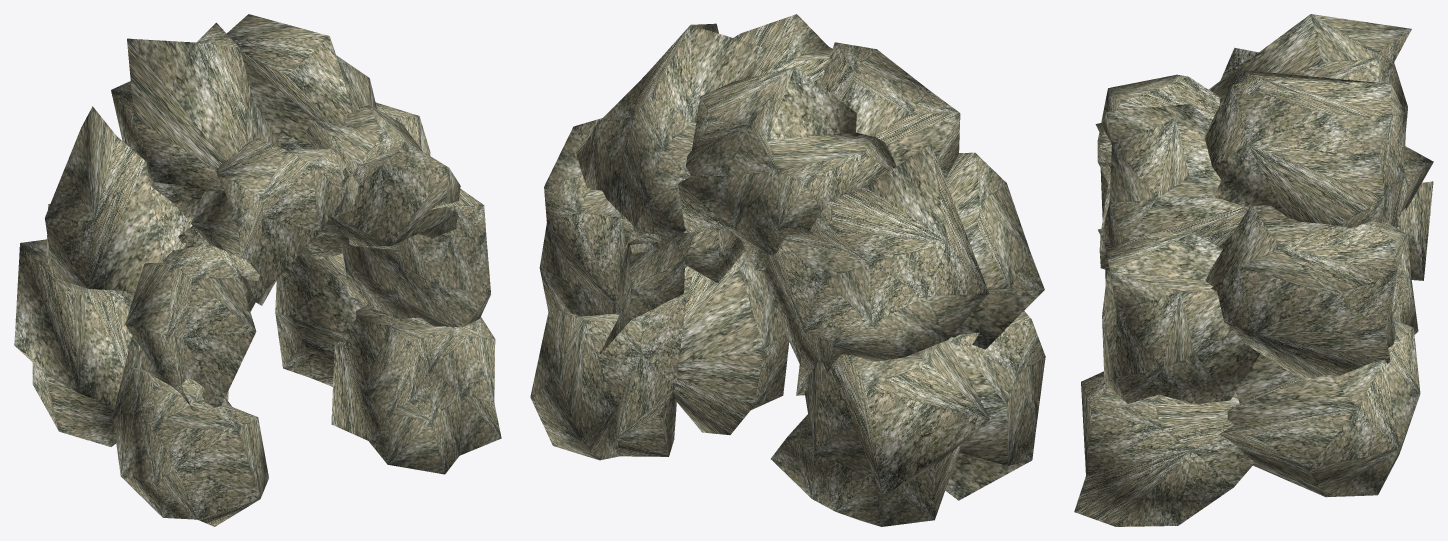
Rendered from cave_entrance.obj.
3 views of the same model, side by side, from view 1: azimuth 30°, elevation 25°; view 2: azimuth 150°, elevation 25°; view 3: azimuth 270°, elevation 25° (orthographic). The views are drawn at different scales.
Visible parts, largest first — view 1: Cube_Cube.001; view 2: Cube_Cube.001; view 3: Cube_Cube.001.
Boxes of the visible parts, box(x1,y1,x2,y2) form: Cube_Cube.001: box(14, 14, 501, 526); Cube_Cube.001: box(530, 14, 1045, 526); Cube_Cube.001: box(1074, 14, 1433, 526).
Bounding box in the file's own units: 3.45 × 3.71 × 2.8.
